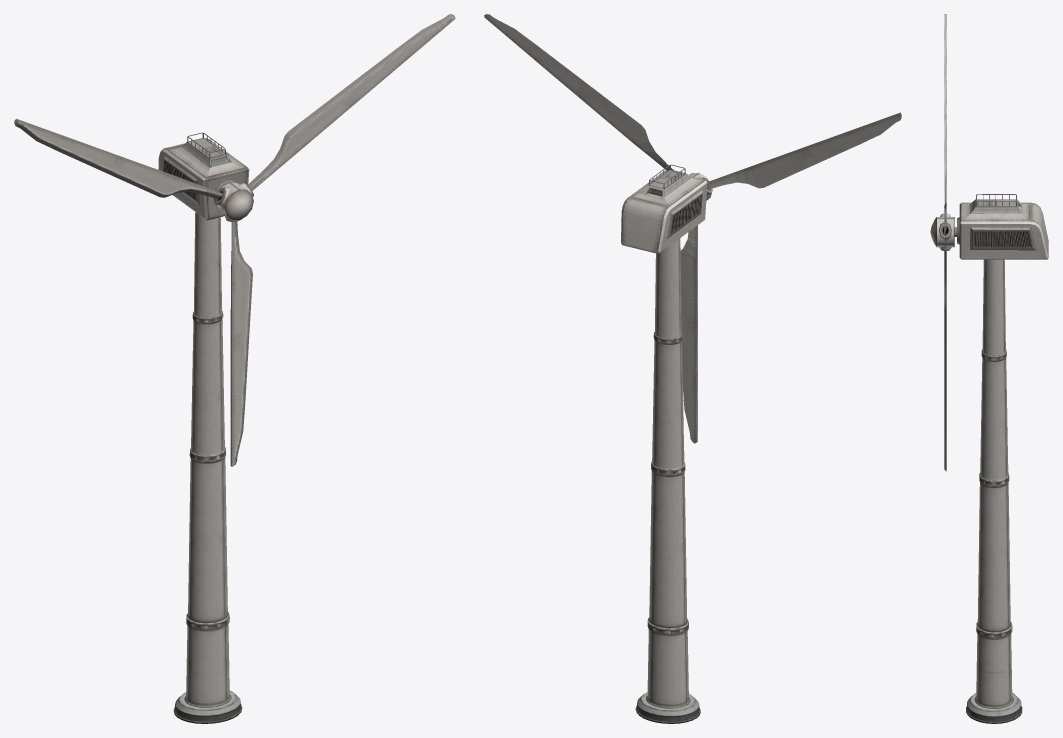
Rendered from windturbine126.obj.
3 views of the same model, side by side, from view 1: azimuth 30°, elevation 25°; view 2: azimuth 150°, elevation 25°; view 3: azimuth 270°, elevation 25° (orthographic). The views are drawn at different scales.
Visible parts, largest first — view 1: Turbine_Main, Turbine_Fan; view 2: Turbine_Main, Turbine_Fan; view 3: Turbine_Main, Turbine_Fan.
Part boxes in pixels (box(x1,y1,x2,y2)): Turbine_Main: box(158, 132, 249, 723); Turbine_Fan: box(14, 14, 455, 466); Turbine_Main: box(621, 164, 707, 723); Turbine_Fan: box(484, 14, 901, 443); Turbine_Main: box(957, 194, 1048, 723); Turbine_Fan: box(930, 14, 956, 471).
Bounding box in the file's own units: 219 × 316 × 56.56.
